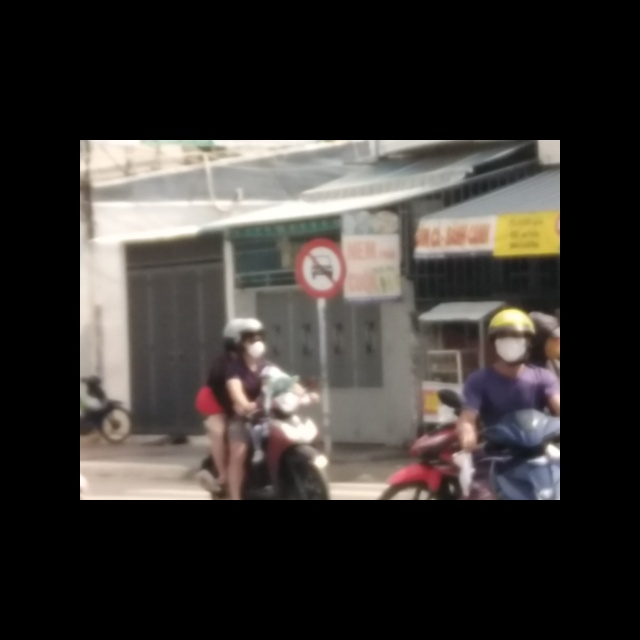Cấm xe ô tô: (291, 236, 346, 299)
